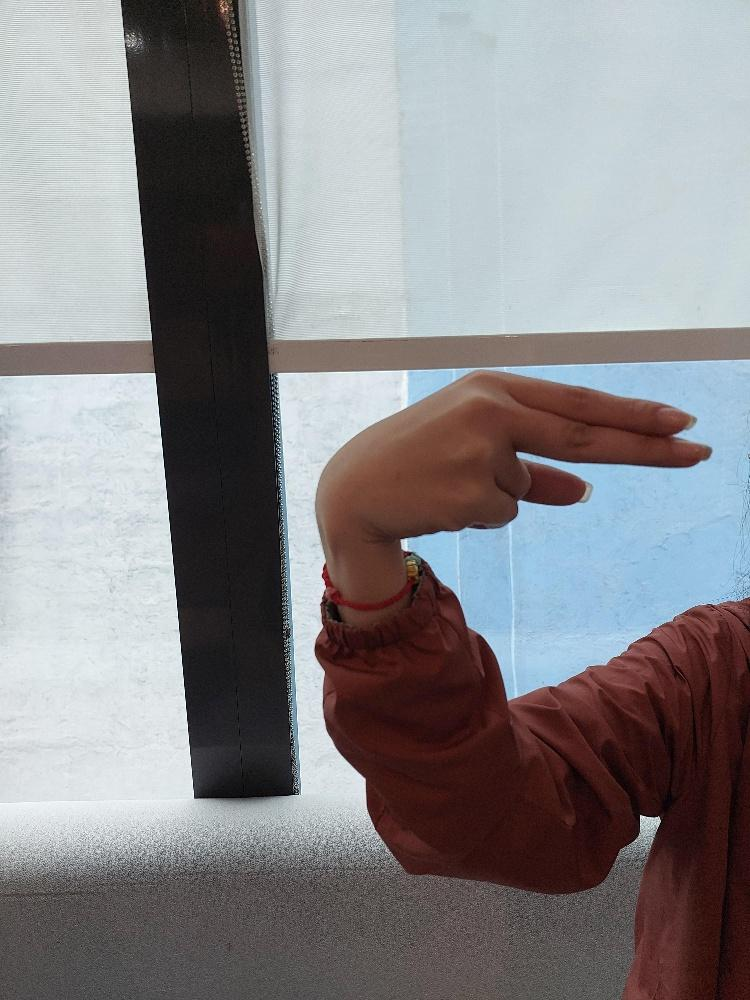h: (311, 364, 711, 546)
